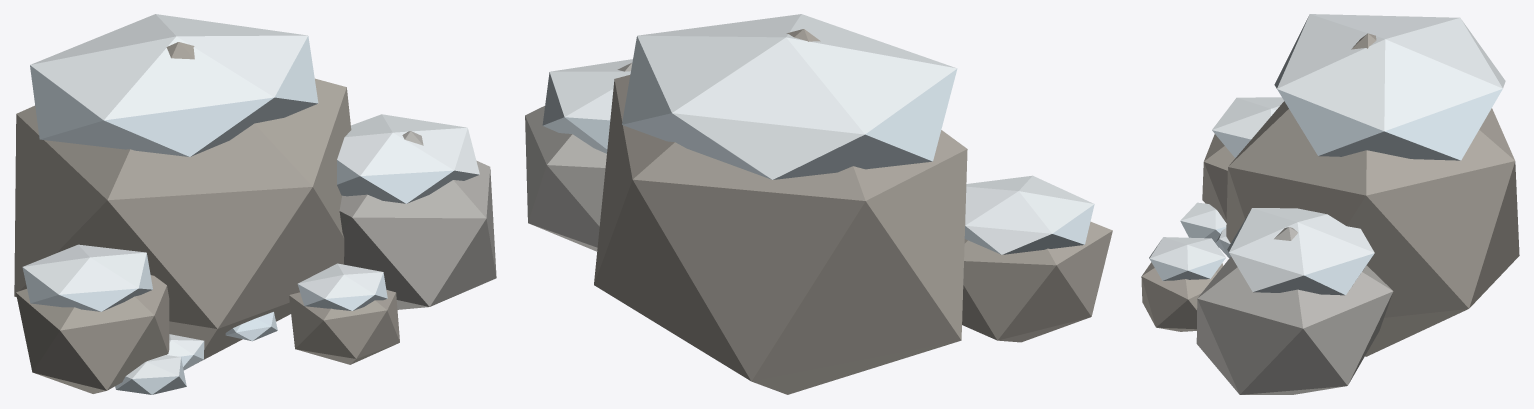
Rendered from rock_cluster_snow_large.glb.
The picture shows the model from 3 angles, left to right: view 1: azimuth 30°, elevation 25°; view 2: azimuth 150°, elevation 25°; view 3: azimuth 270°, elevation 25°; orthographic projection. The views are drawn at different scales.
Visible parts, largest first — view 1: rock_cluster_snow_large; view 2: rock_cluster_snow_large; view 3: rock_cluster_snow_large.
Part boxes in pixels (x1=…): rock_cluster_snow_large: x1=14, y1=14, x2=496, y2=394; rock_cluster_snow_large: x1=525, y1=14, x2=1112, y2=394; rock_cluster_snow_large: x1=1141, y1=14, x2=1519, y2=394.
Bounding box in the file's own units: 1.94 × 1.26 × 1.37.
